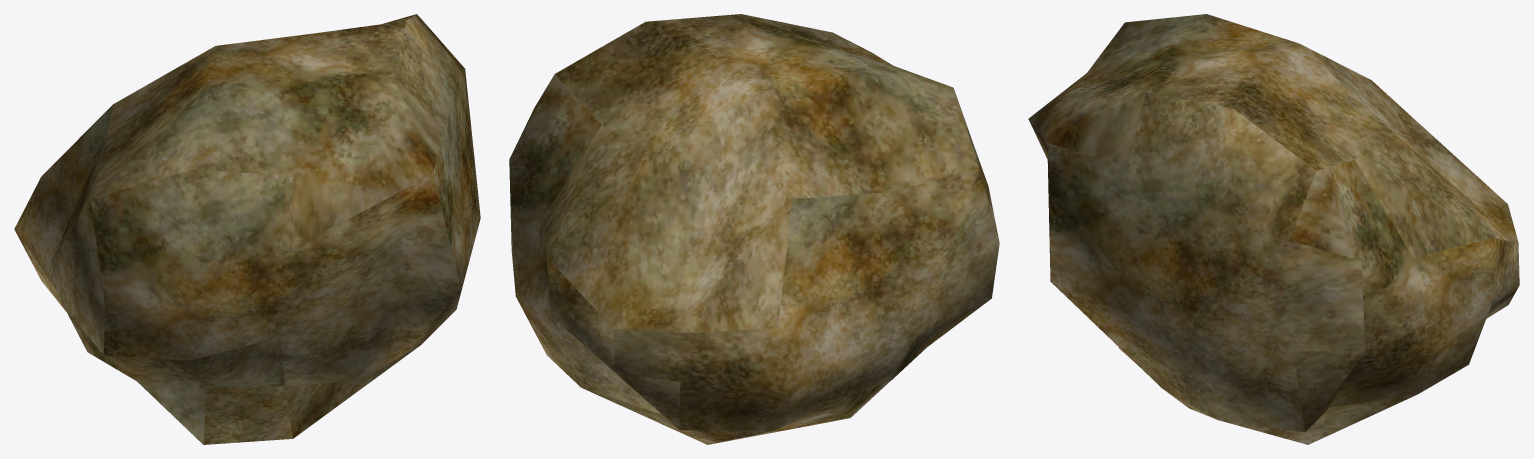
The model's file is LVL_ROAST_MUTTON_ROCK06.fbx.
3 renders of one model, left to right at view 1: azimuth 30°, elevation 25°; view 2: azimuth 150°, elevation 25°; view 3: azimuth 270°, elevation 25°, orthographic. The views are drawn at different scales.
Parts seen in each view (by area): view 1: LVL_ROAST_MUTTON_ROCK06; view 2: LVL_ROAST_MUTTON_ROCK06; view 3: LVL_ROAST_MUTTON_ROCK06.
Part boxes in pixels (box(x1,y1,x2,y2)): LVL_ROAST_MUTTON_ROCK06: box(14, 14, 480, 444); LVL_ROAST_MUTTON_ROCK06: box(509, 14, 999, 444); LVL_ROAST_MUTTON_ROCK06: box(1028, 14, 1519, 444).
Size of the model in its own units: 15906 by 13228 by 16132.
Materials: 1 (1 with a texture image).
